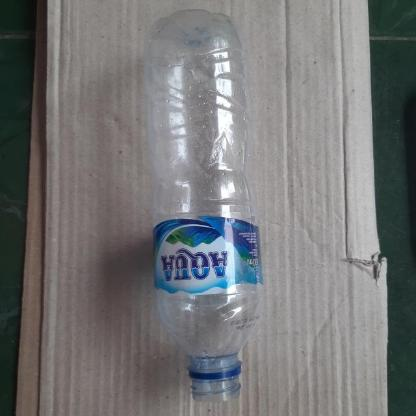Plastic Bottle: (127, 0, 262, 408)
